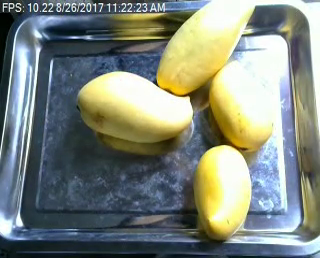Mango: (154, 0, 257, 97), (75, 70, 195, 144), (209, 61, 272, 149), (195, 143, 251, 239)
